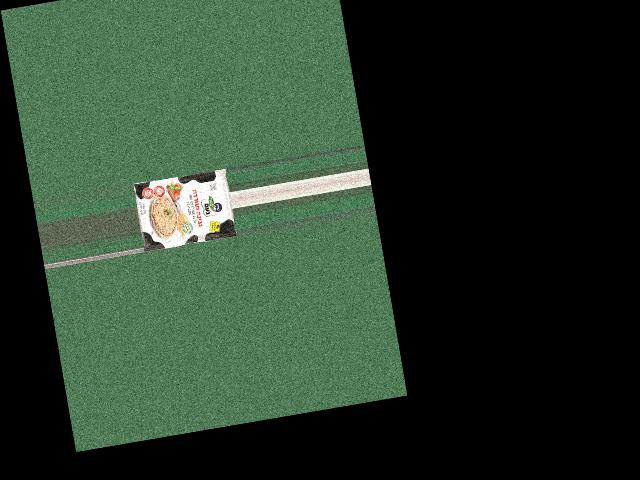cheese: (135, 157, 230, 253)
